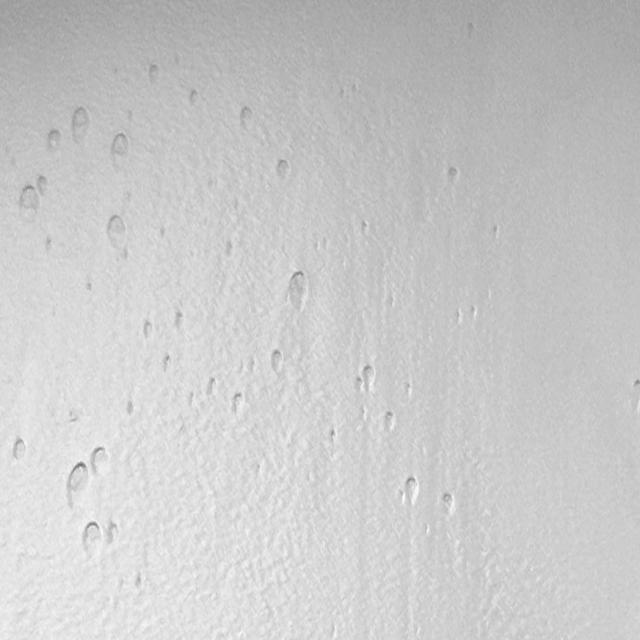pin holes: (64, 460, 88, 512), (283, 269, 312, 312), (104, 210, 130, 252), (78, 520, 104, 560), (67, 106, 92, 144), (18, 180, 44, 213), (110, 131, 134, 163), (88, 445, 112, 477), (236, 107, 258, 136), (402, 476, 423, 506), (8, 436, 30, 464), (42, 128, 64, 156), (267, 349, 288, 377), (358, 363, 378, 392), (438, 488, 458, 516), (272, 157, 292, 184), (444, 164, 464, 188), (172, 309, 191, 334), (141, 317, 159, 343), (461, 20, 481, 43), (145, 62, 163, 87), (381, 411, 399, 435), (229, 390, 246, 415), (108, 521, 125, 546), (36, 174, 53, 198), (352, 373, 368, 396), (206, 376, 221, 398), (187, 88, 202, 109), (124, 401, 140, 419), (451, 307, 466, 326), (44, 235, 57, 256), (66, 408, 83, 424), (359, 219, 373, 238), (162, 352, 174, 374), (404, 382, 415, 402), (329, 428, 341, 446), (468, 304, 480, 322), (134, 574, 146, 592), (492, 223, 504, 240), (85, 278, 97, 294)
